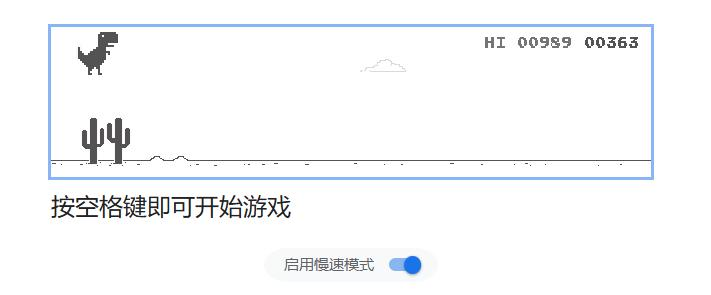cactus: (80, 117, 131, 166)
dino: (75, 30, 119, 76)
